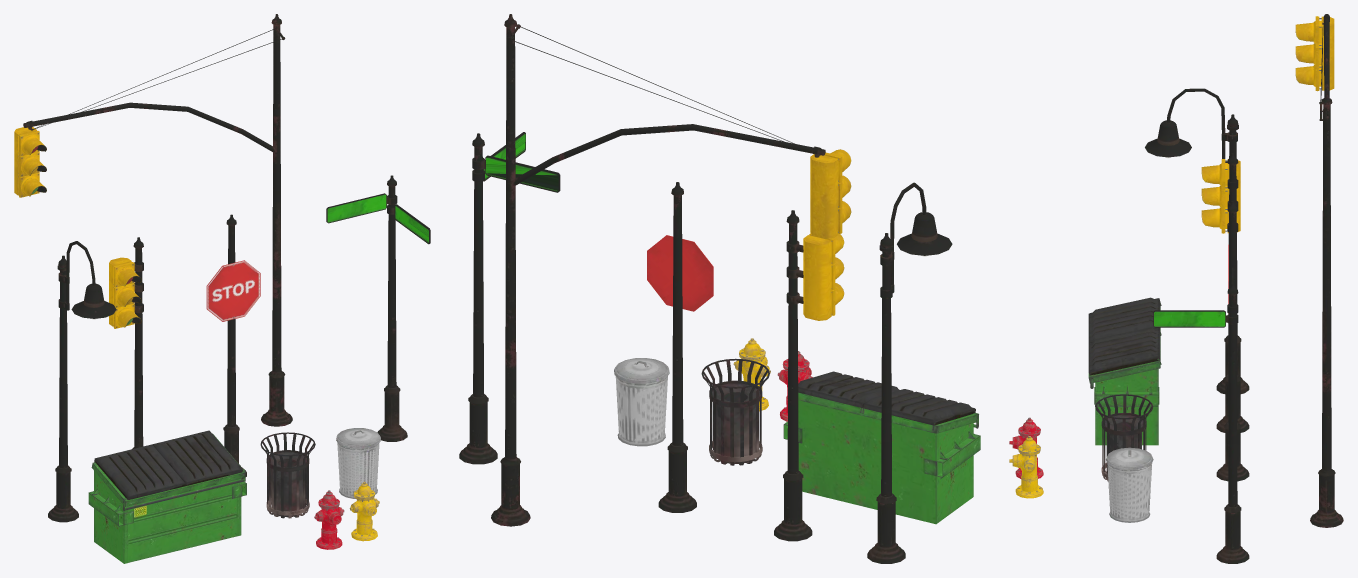
File: m_prop-traffic-light.glb
The picture shows the model from 3 angles, left to right: view 1: azimuth 30°, elevation 25°; view 2: azimuth 150°, elevation 25°; view 3: azimuth 270°, elevation 25°; orthographic projection. The views are drawn at different scales.
Visible parts, largest first — view 1: metal street props low poly_metal street props_0; view 2: metal street props low poly_metal street props_0; view 3: metal street props low poly_metal street props_0.
Boxes of the visible parts, x1,y1,x2,y2 form: metal street props low poly_metal street props_0: (14,14,430,563); metal street props low poly_metal street props_0: (459,14,980,563); metal street props low poly_metal street props_0: (1009,14,1343,563).
Size of the model in its own units: 5.18 by 5.55 by 3.94.
1 material, 1 textured.
